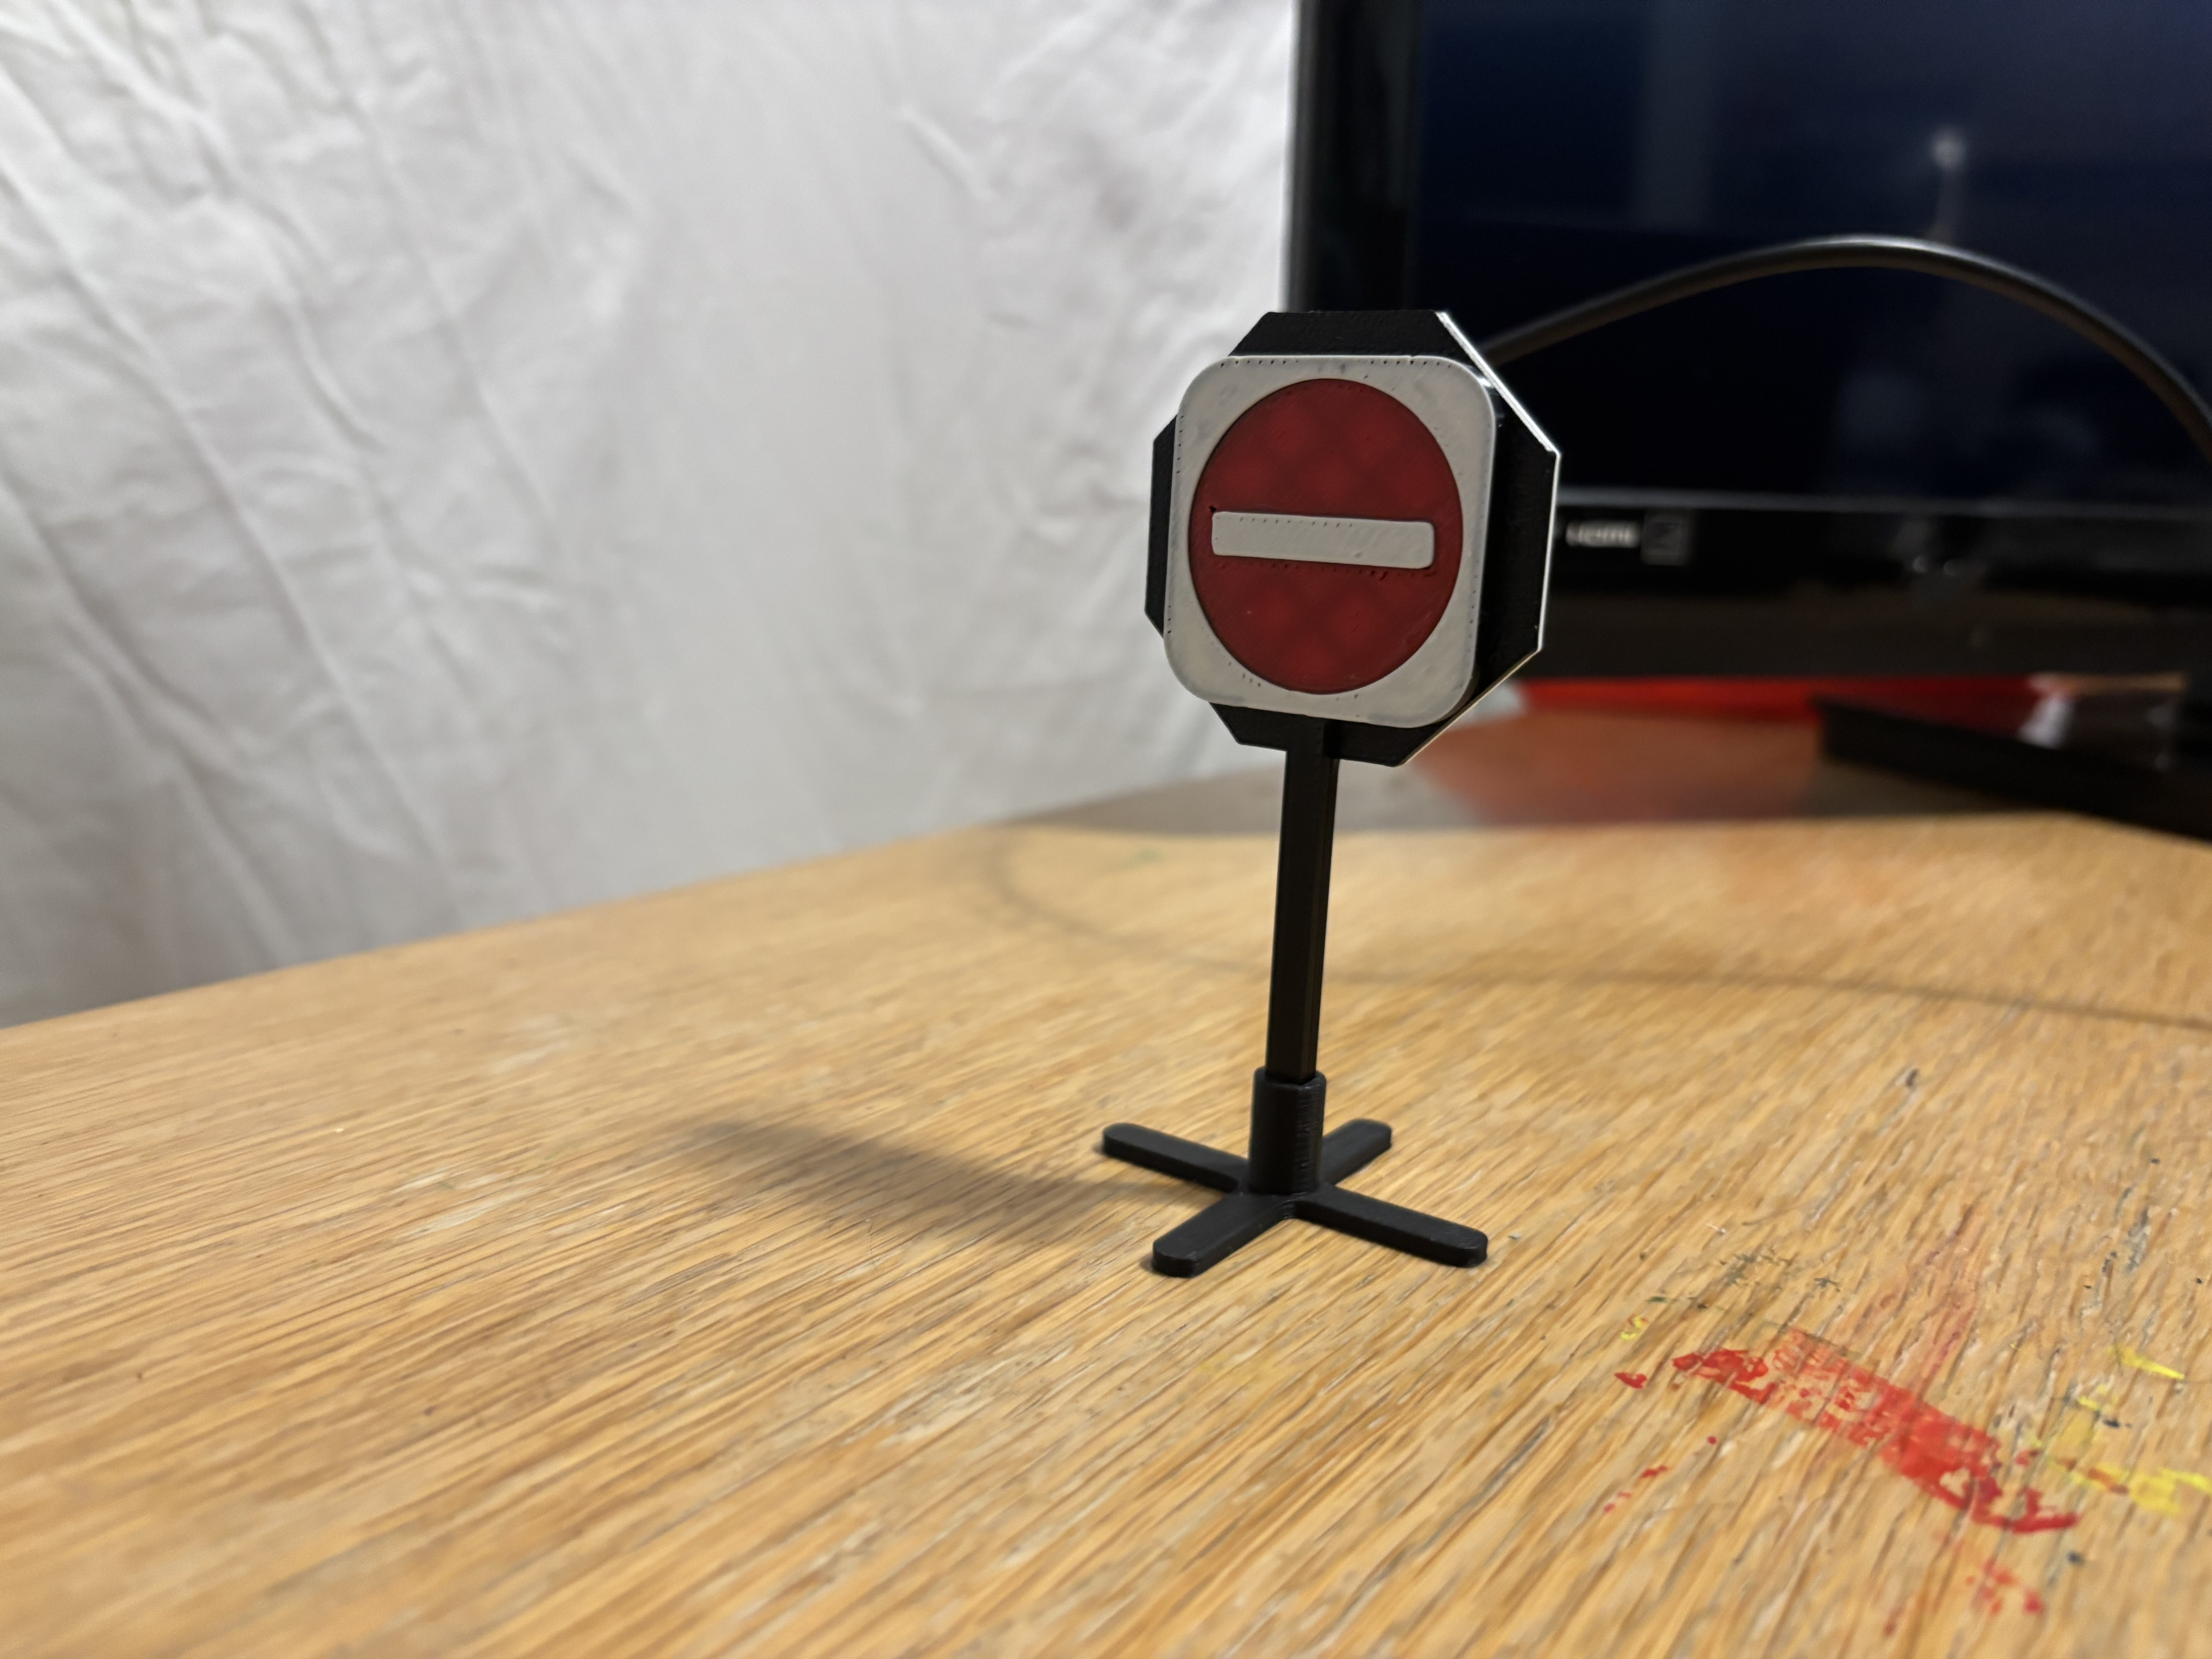sign_noentry: (1150, 345, 1505, 735)
